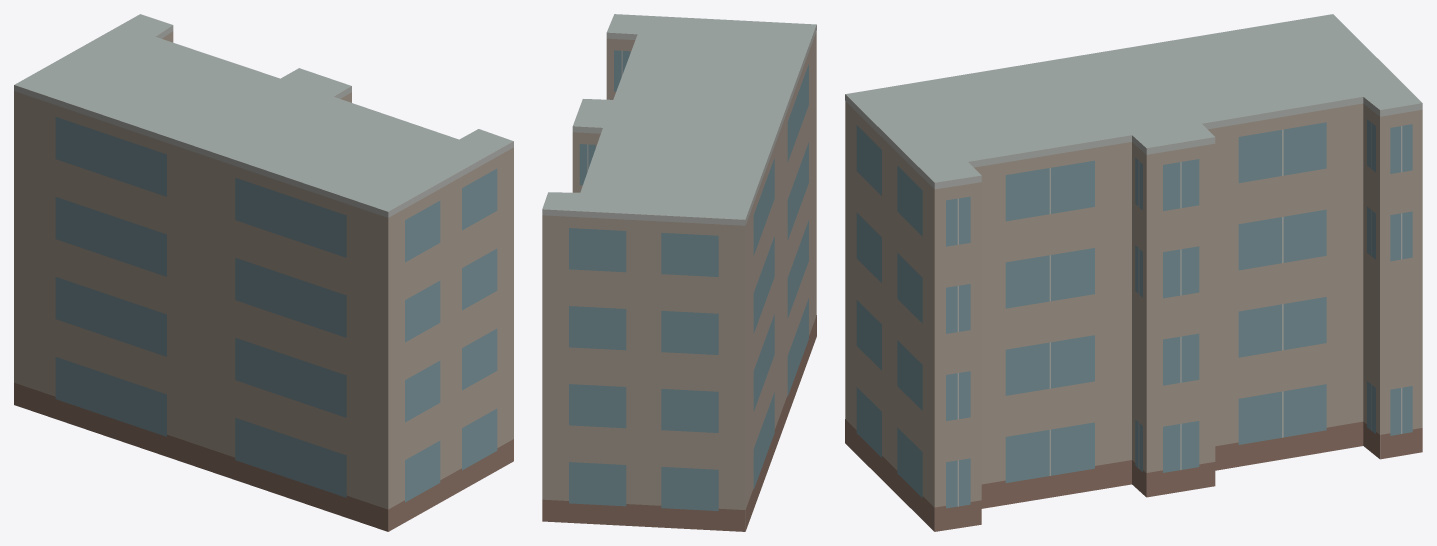
The model's file is survey-upis-32751699.glb.
3 renders of one model, left to right at view 1: azimuth 30°, elevation 25°; view 2: azimuth 150°, elevation 25°; view 3: azimuth 270°, elevation 25°, orthographic. The views are drawn at different scales.
Parts seen in each view (by area): view 1: survey-upis-32751699.tmp; view 2: survey-upis-32751699.tmp; view 3: survey-upis-32751699.tmp.
Boxes of the visible parts, x1,y1,x2,y2 form: survey-upis-32751699.tmp: [14, 14, 513, 531]; survey-upis-32751699.tmp: [542, 14, 816, 531]; survey-upis-32751699.tmp: [845, 14, 1422, 531].
Size of the model in its own units: 13.39 by 12.9 by 19.35.
